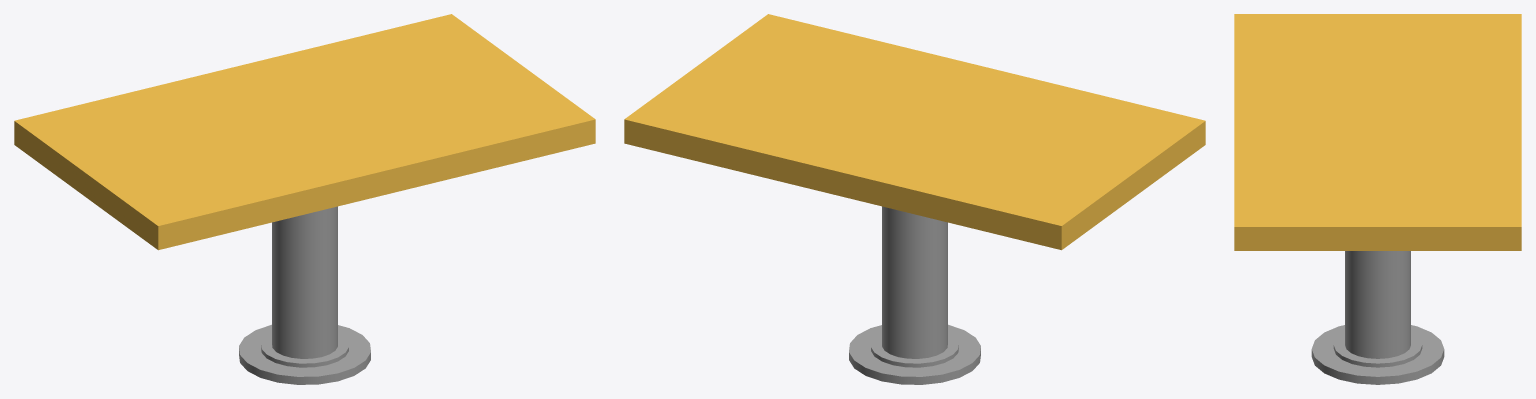
File: table.obj
3 views of the same model, side by side, from view 1: azimuth 30°, elevation 25°; view 2: azimuth 150°, elevation 25°; view 3: azimuth 270°, elevation 25° (orthographic).
Parts seen in each view (by area): view 1: pCube1, pCylinder1, pCylinder2, pCylinder3; view 2: pCube1, pCylinder1, pCylinder2, pCylinder3; view 3: pCube1, pCylinder1, pCylinder2, pCylinder3.
Part boxes in pixels (x1,y1,x2,y2): pCube1: (14, 14, 595, 250); pCylinder1: (272, 206, 337, 358); pCylinder2: (239, 324, 370, 384); pCylinder3: (261, 333, 348, 367); pCube1: (624, 14, 1205, 250); pCylinder1: (882, 206, 947, 358); pCylinder2: (849, 324, 980, 384); pCylinder3: (871, 333, 958, 367); pCube1: (1234, 14, 1521, 250); pCylinder1: (1345, 251, 1410, 358); pCylinder2: (1311, 325, 1444, 384); pCylinder3: (1333, 333, 1422, 367).
Size of the model in its own units: 2.28 by 1.18 by 1.3.
